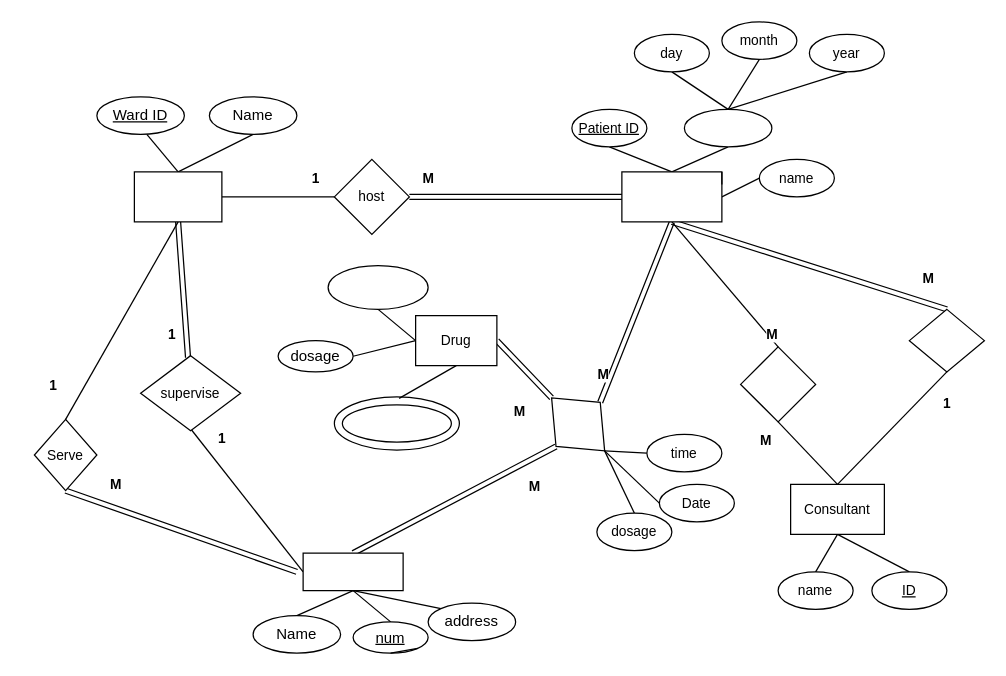
The diagram is 1006 pixels wide and 676 high, and some of its shapes have lost their labels. Each missing label, with the centre of its shape:
assign: pixel 946 340
Brand Name: pixel 396 423
Code num: pixel 377 286
Date of Birth: pixel 727 127
examine: pixel 777 384
Nurse: pixel 352 571
Patient: pixel 671 196
record: pixel 577 423
Ward: pixel 177 196
